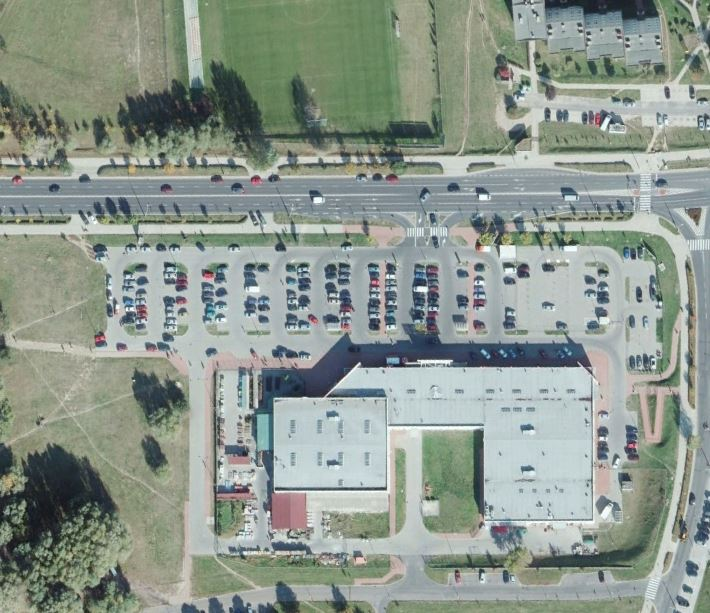shopping_center: (264, 342, 599, 528)
